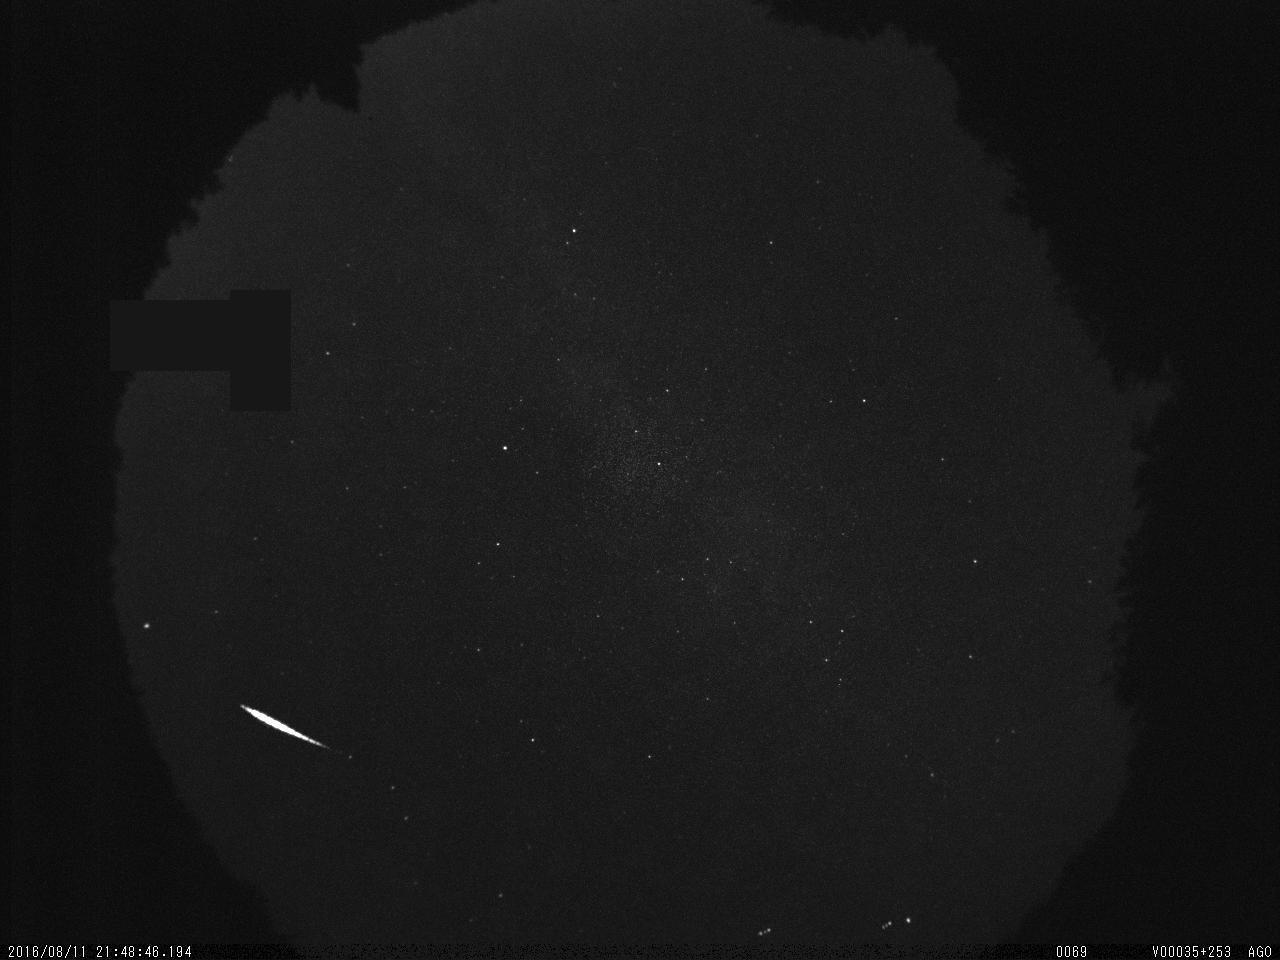meteor: (230, 687, 344, 765)
